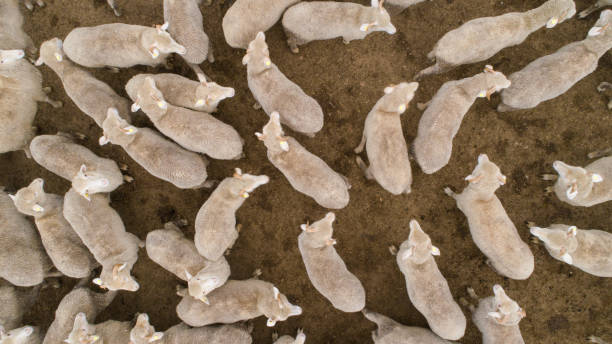sheep: (413, 1, 577, 84), (499, 8, 612, 125), (414, 63, 523, 178), (377, 216, 469, 344), (237, 37, 337, 147), (133, 82, 252, 169), (257, 107, 348, 217), (292, 212, 383, 317), (447, 155, 528, 272), (98, 116, 221, 193), (30, 38, 140, 123), (55, 183, 142, 288), (18, 174, 94, 284), (277, 1, 408, 56), (60, 21, 182, 77), (143, 218, 218, 305), (31, 131, 135, 191), (195, 166, 249, 276), (141, 64, 237, 122), (528, 219, 612, 284), (152, 1, 225, 73), (174, 287, 305, 327), (1, 38, 43, 154), (530, 148, 612, 206), (463, 280, 522, 344)
